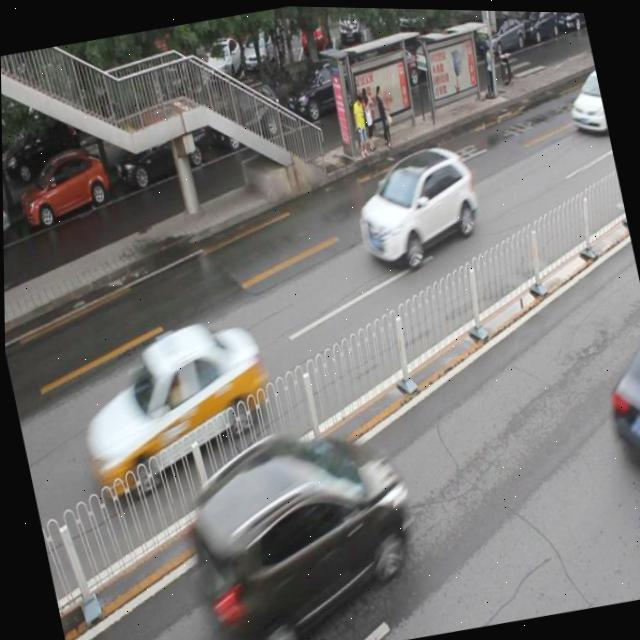car: (173, 409, 434, 640), (62, 309, 284, 503), (343, 137, 487, 272), (102, 103, 212, 190), (10, 145, 114, 226), (594, 315, 640, 489), (274, 48, 367, 124), (201, 76, 286, 153), (560, 64, 609, 139), (2, 182, 11, 250)
